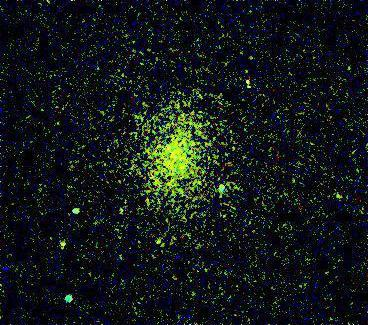star: (50, 229, 80, 259)
